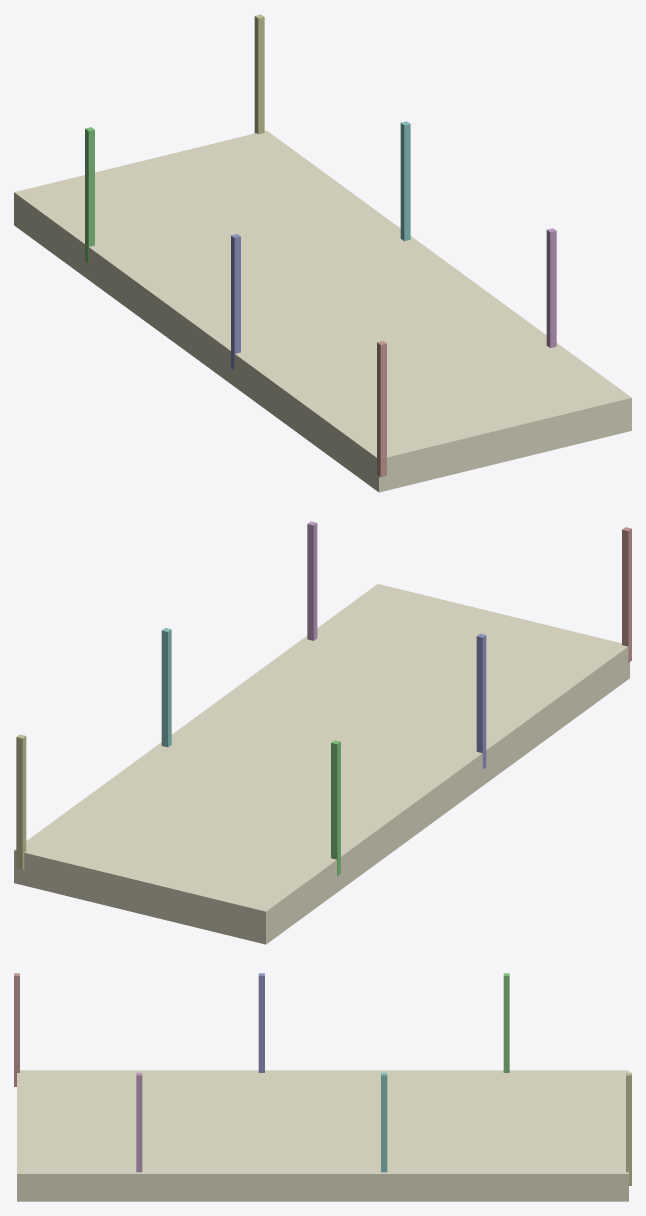
The model's file is Stage.fbx.
The picture shows the model from 3 angles, top to bottom: view 1: azimuth 30°, elevation 25°; view 2: azimuth 150°, elevation 25°; view 3: azimuth 270°, elevation 25°; orthographic projection. The views are drawn at different scales.
Visible parts, largest first — view 1: Cube, Cube.001, Cube.003, Cube.005, Cube.002, Cube.004, Cube.006; view 2: Cube, Cube.003, Cube.004, Cube.002, Cube.005, Cube.001, Cube.006; view 3: Cube, Cube.002, Cube.005, Cube.004, Cube.006, Cube.003, Cube.001.
Part boxes in pixels (x1,y1,x2,y2): Cube: [14, 130, 631, 492]; Cube.001: [377, 341, 386, 477]; Cube.003: [254, 14, 264, 134]; Cube.005: [400, 121, 410, 241]; Cube.002: [546, 228, 556, 347]; Cube.004: [231, 234, 240, 370]; Cube.006: [85, 127, 94, 263]; Cube: [14, 584, 629, 944]; Cube.003: [16, 734, 26, 870]; Cube.004: [476, 633, 486, 769]; Cube.002: [307, 521, 317, 640]; Cube.005: [161, 628, 171, 747]; Cube.001: [622, 527, 631, 662]; Cube.006: [331, 740, 340, 875]; Cube: [17, 1070, 628, 1201]; Cube.002: [136, 1072, 142, 1172]; Cube.005: [381, 1072, 387, 1172]; Cube.004: [258, 973, 264, 1072]; Cube.006: [503, 973, 509, 1072]; Cube.003: [626, 1072, 631, 1185]; Cube.001: [14, 973, 19, 1086].
Bounding box in the file's own units: 400 × 225 × 1010.
